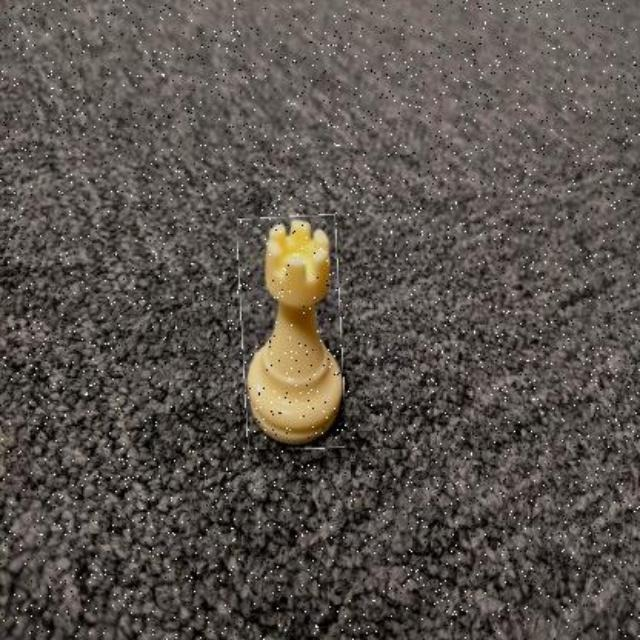white-rook: (240, 217, 344, 449)
